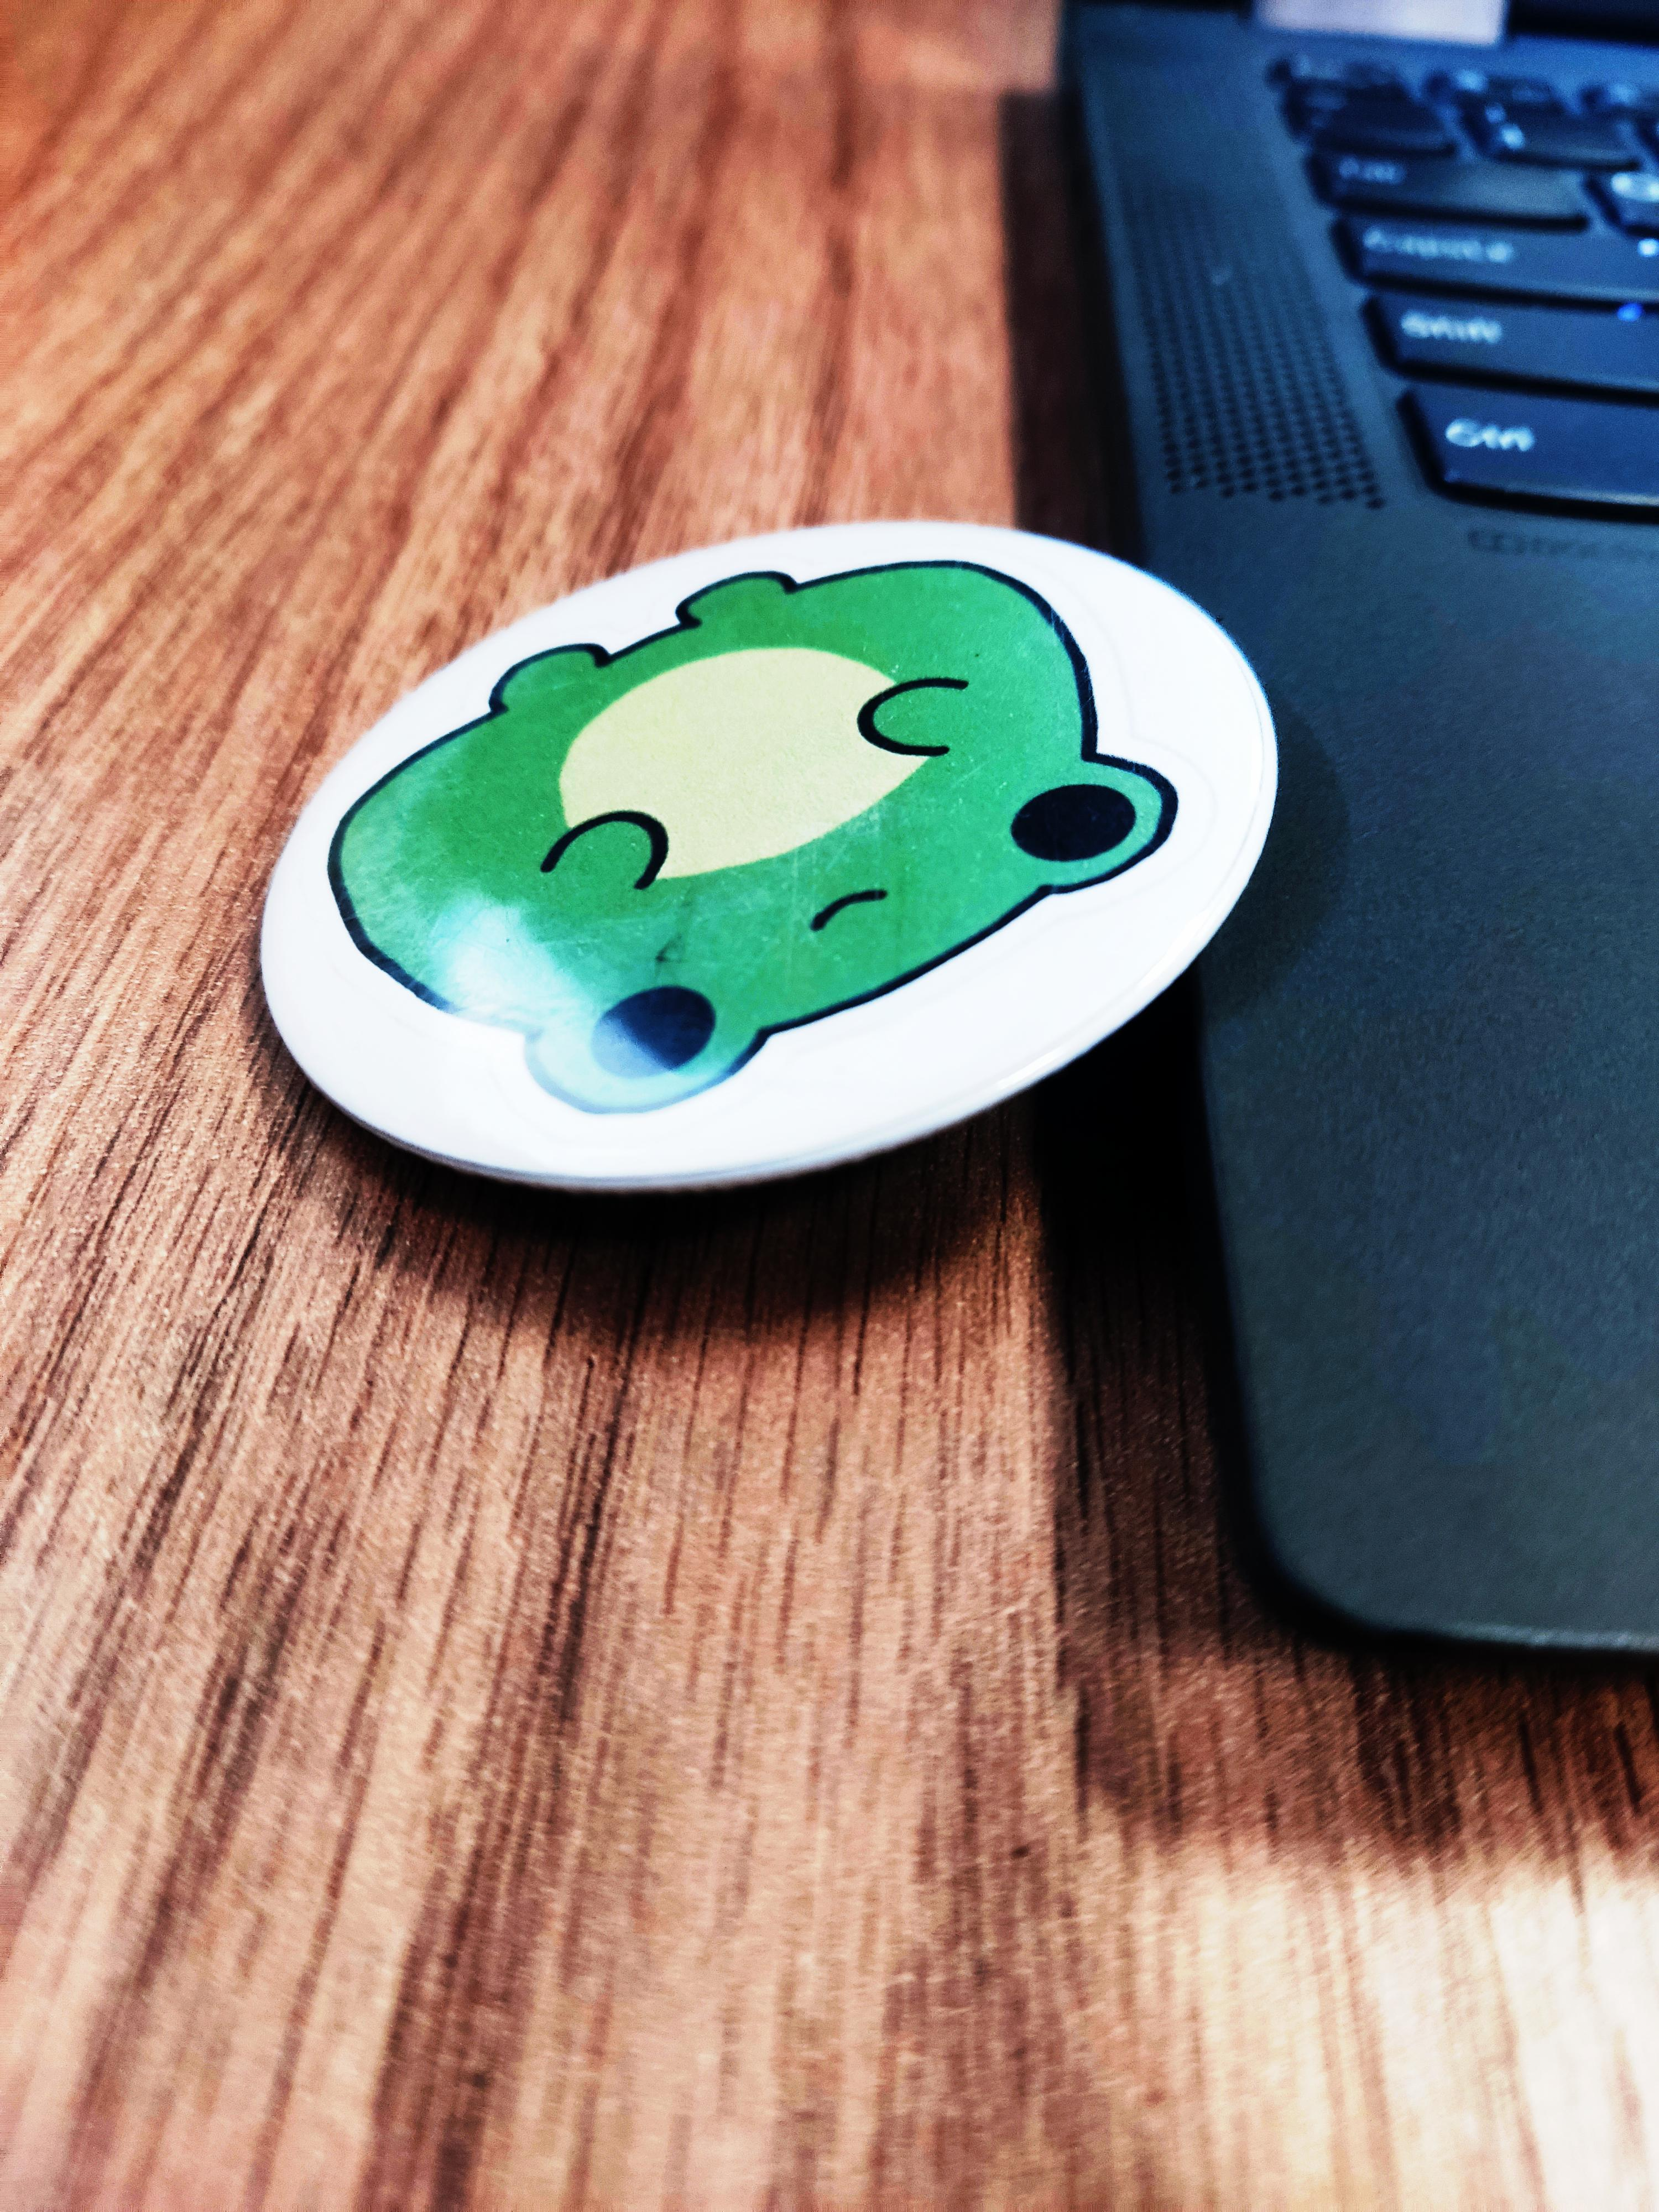pin: (265, 500, 1305, 1226)
